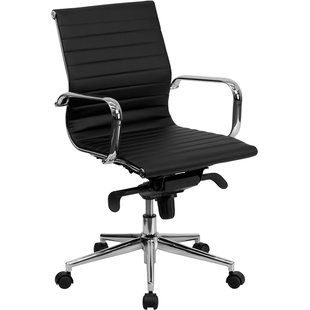chairs: (42, 2, 260, 310)
